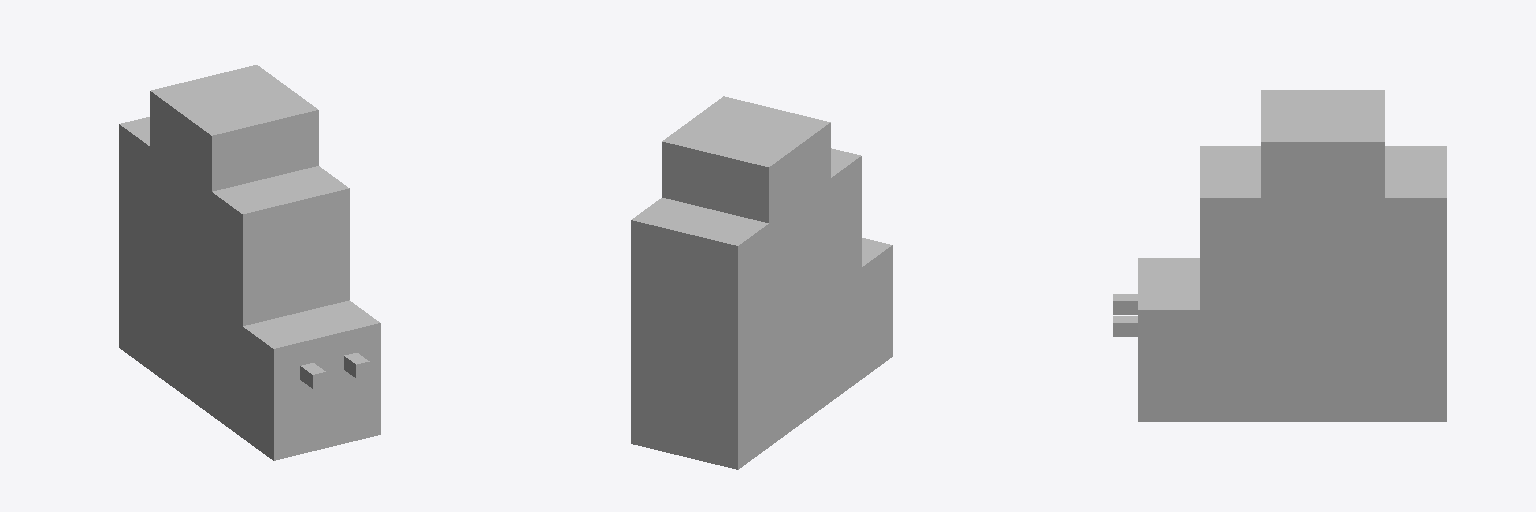
Rendered from snail.obj.
The picture shows the model from 3 angles: view 1: azimuth 30°, elevation 25°; view 2: azimuth 150°, elevation 25°; view 3: azimuth 270°, elevation 25°; orthographic projection.
Visible parts, largest first — view 1: unnamed_mesh1, cube14; view 2: unnamed_mesh1; view 3: unnamed_mesh1, cube14.
Part boxes in pixels (left/top/right/bottom): unnamed_mesh1: left=119, top=65, right=380, bottom=460; cube14: left=300, top=353, right=369, bottom=388; unnamed_mesh1: left=631, top=96, right=892, bottom=469; unnamed_mesh1: left=1138, top=90, right=1446, bottom=421; cube14: left=1113, top=294, right=1137, bottom=336.
Size of the model in its own units: 20 by 50 by 54.